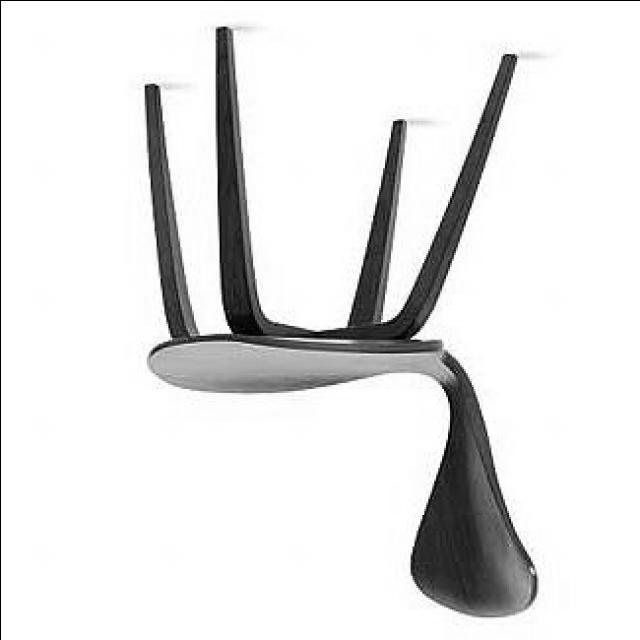chair: (140, 29, 538, 616)
